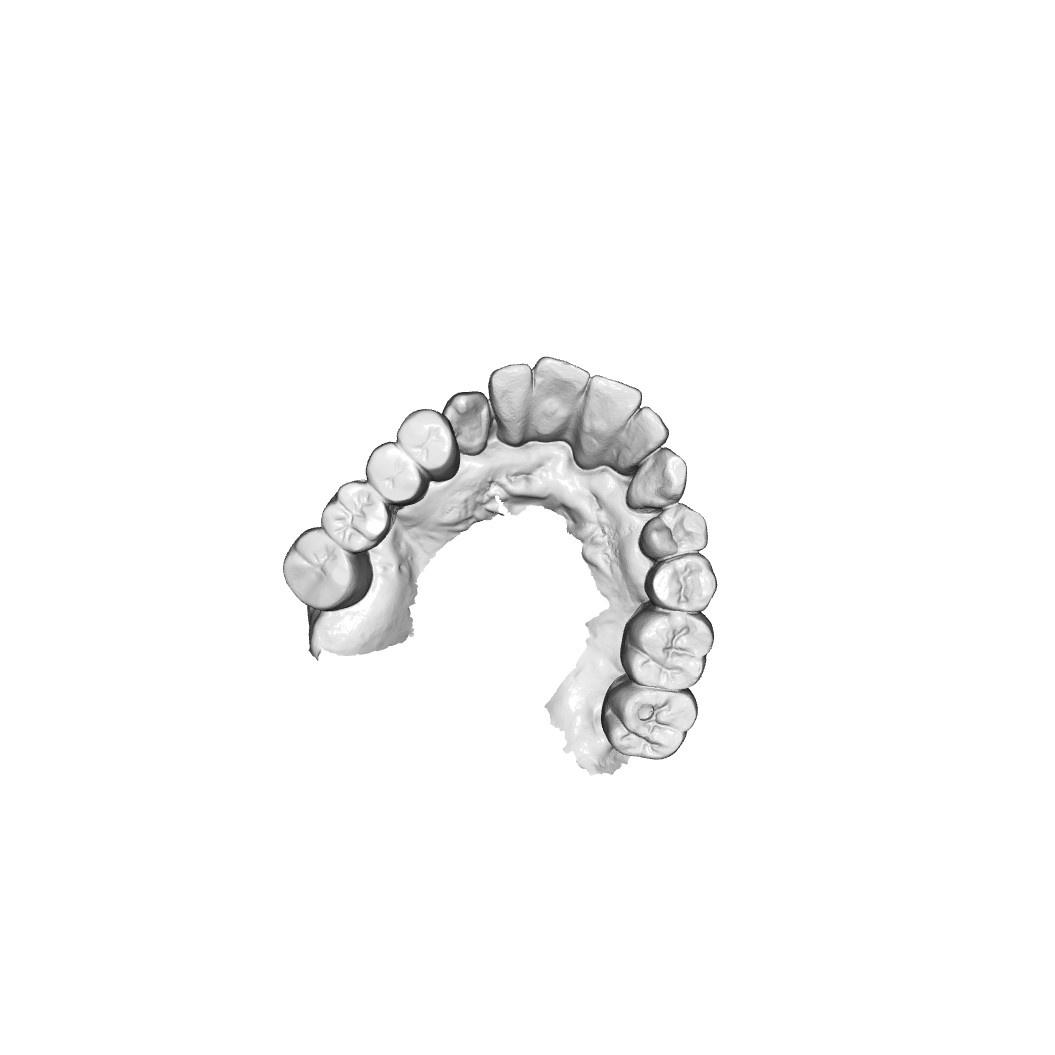canine: (627, 447, 689, 510), (446, 391, 489, 450)
incisor: (577, 376, 638, 460), (529, 356, 583, 442), (610, 406, 667, 464), (495, 363, 531, 438)
molar: (610, 681, 689, 764), (282, 528, 355, 607), (631, 609, 707, 682), (321, 479, 388, 550)
premolar: (649, 550, 718, 612), (642, 501, 704, 565), (400, 410, 451, 472), (366, 439, 418, 497)
